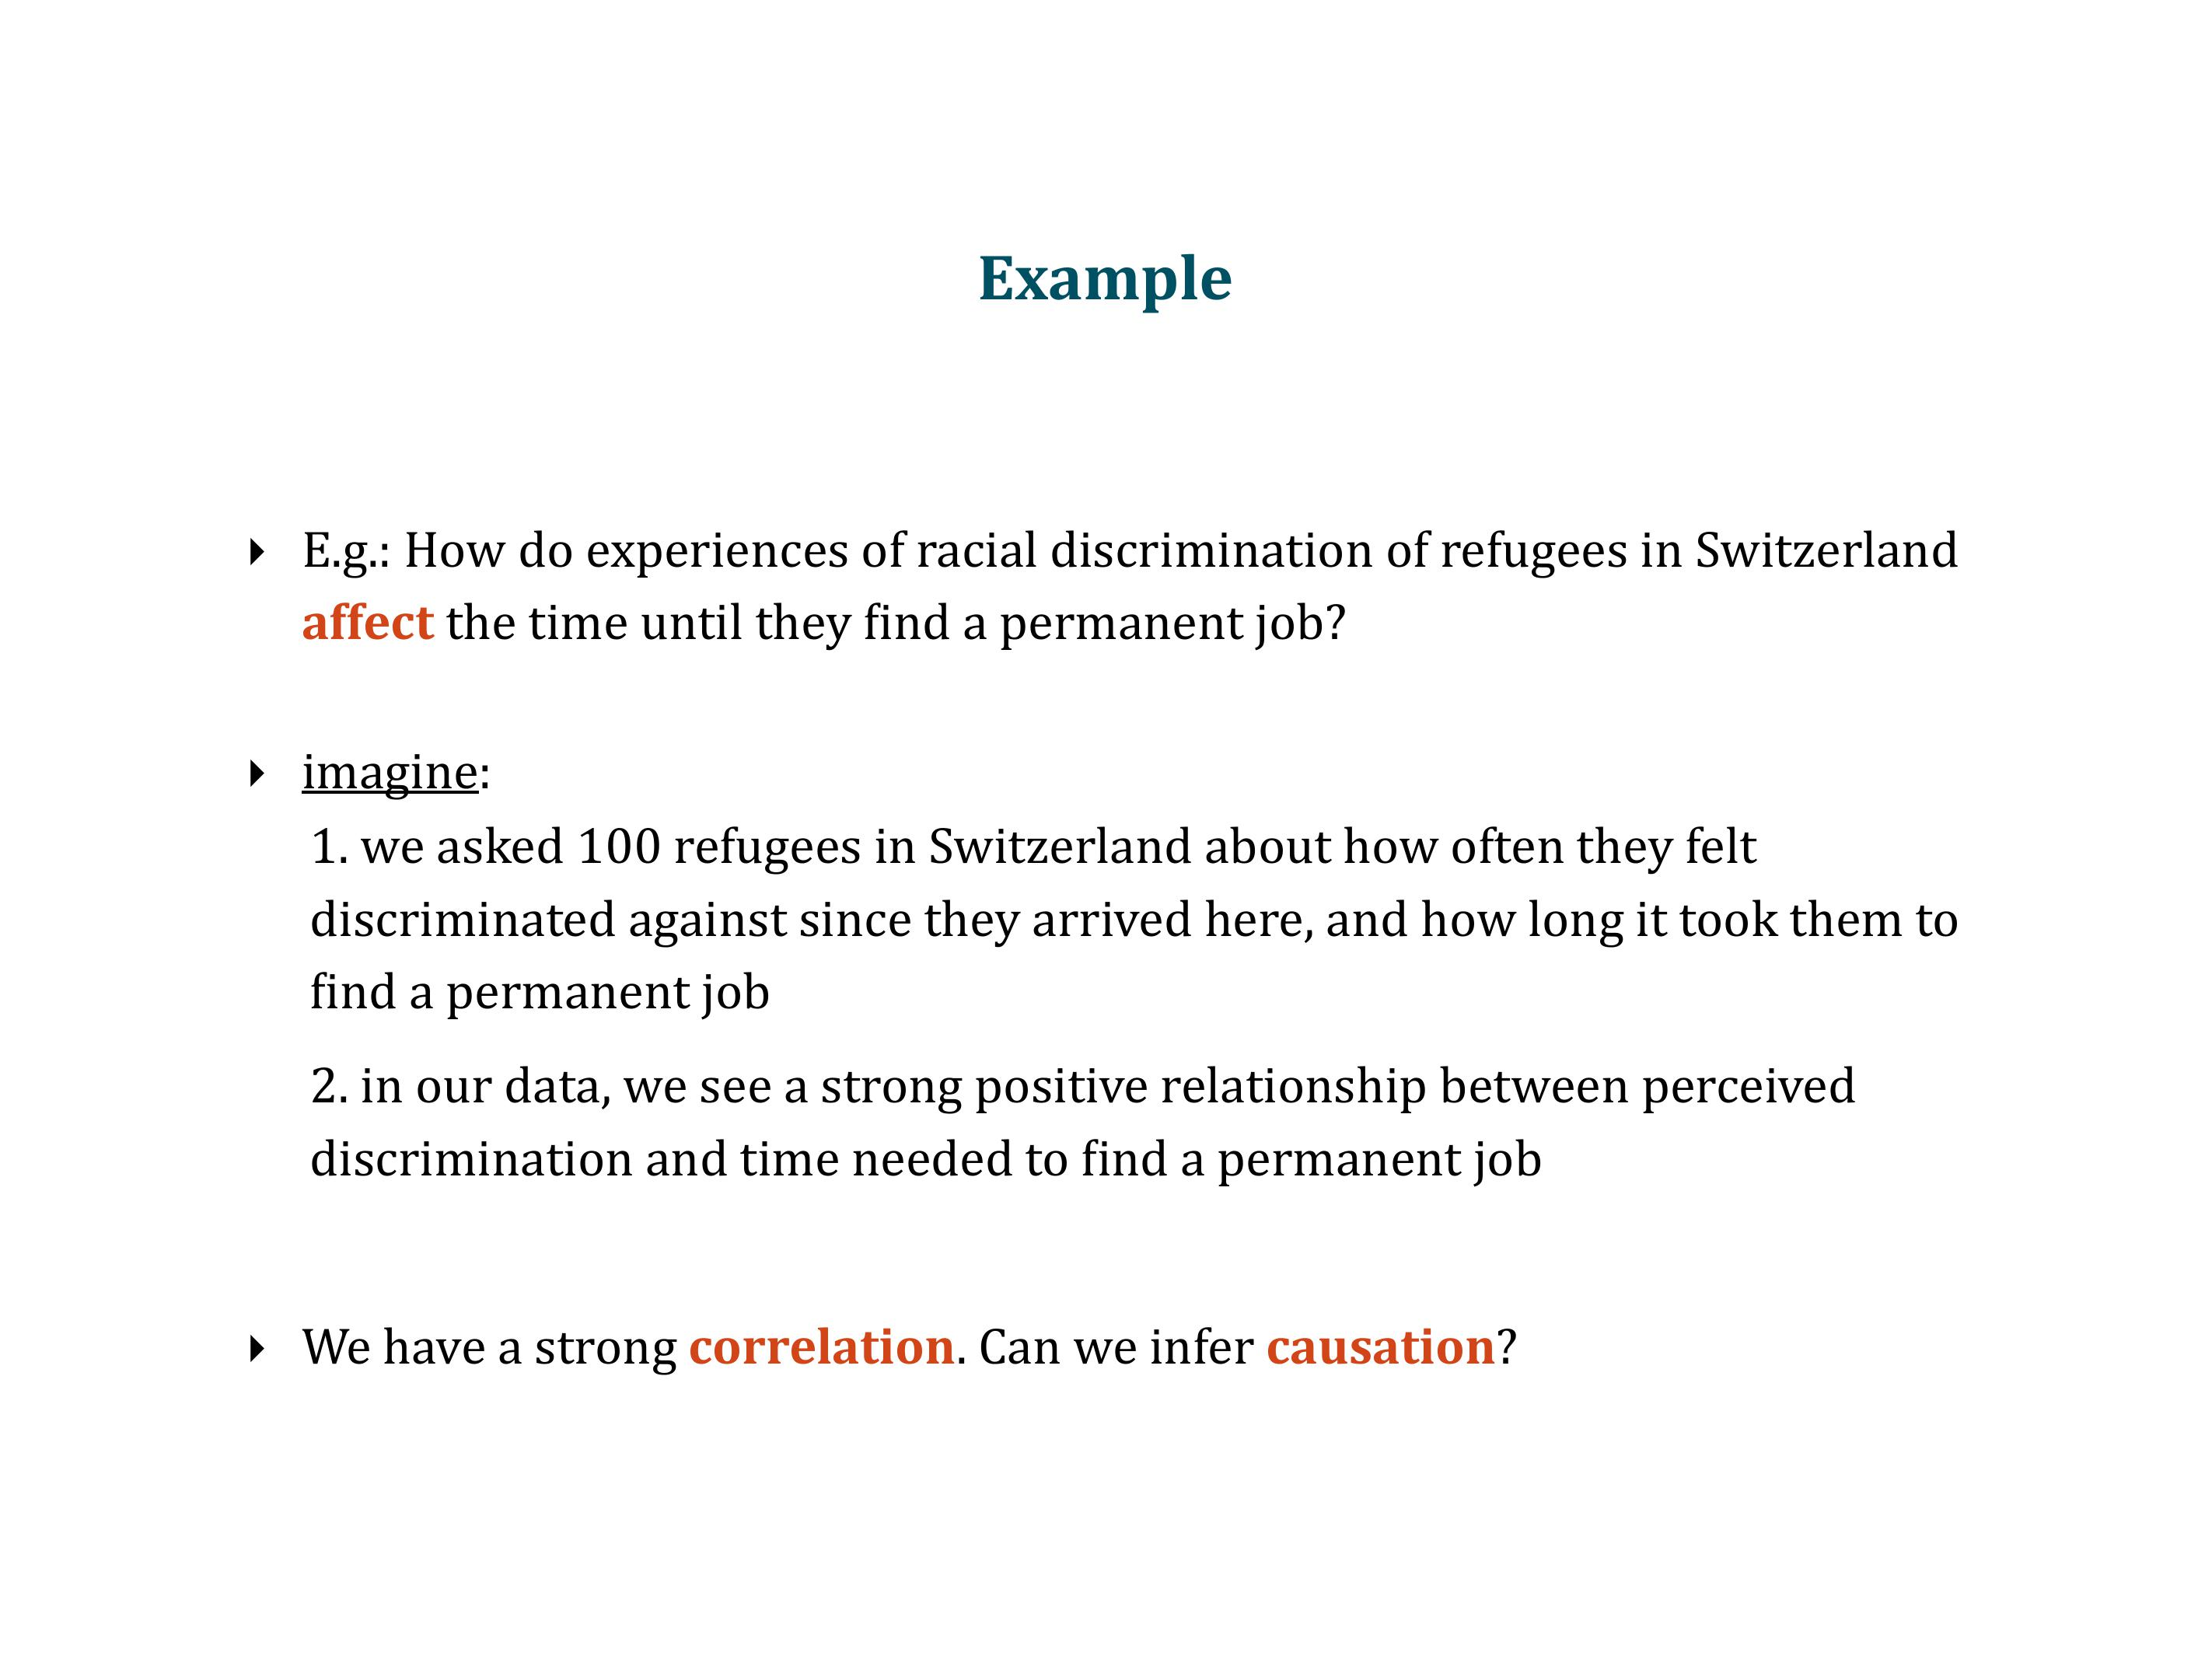Title: (962, 237, 1245, 314)
